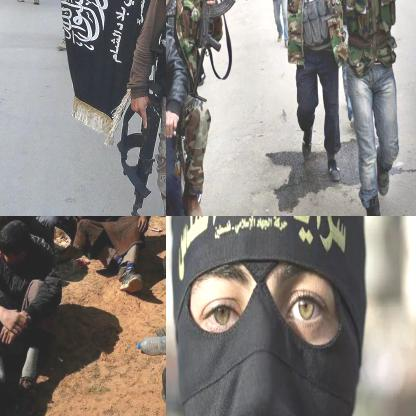rifle: (114, 74, 165, 215), (188, 0, 238, 103)
